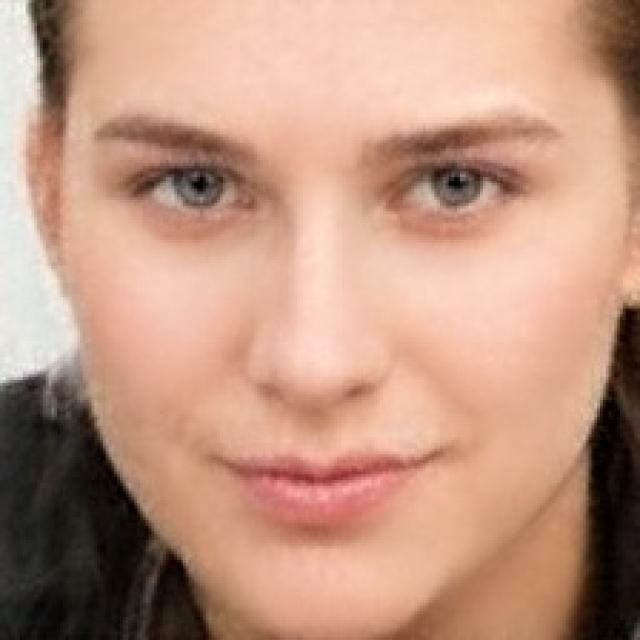safety_helmet: (3, 1, 638, 637)
